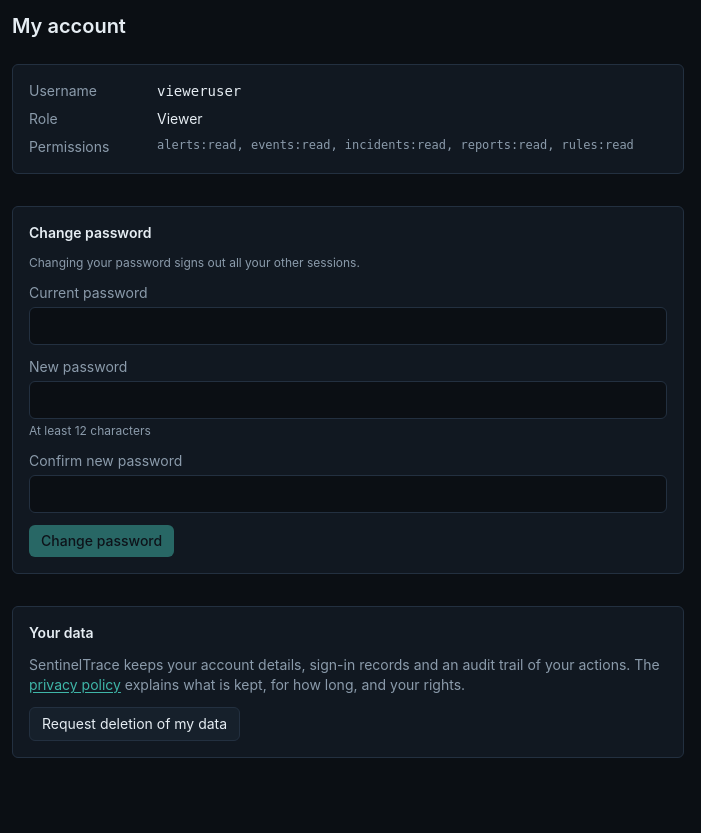
Scenario: AccountPage › shows the server error for a wrong current password
This screenshot has width=701, height=833.
In the password field labelled "Current password": x=348, y=326 [29,307,667,345], type "wrong-password"
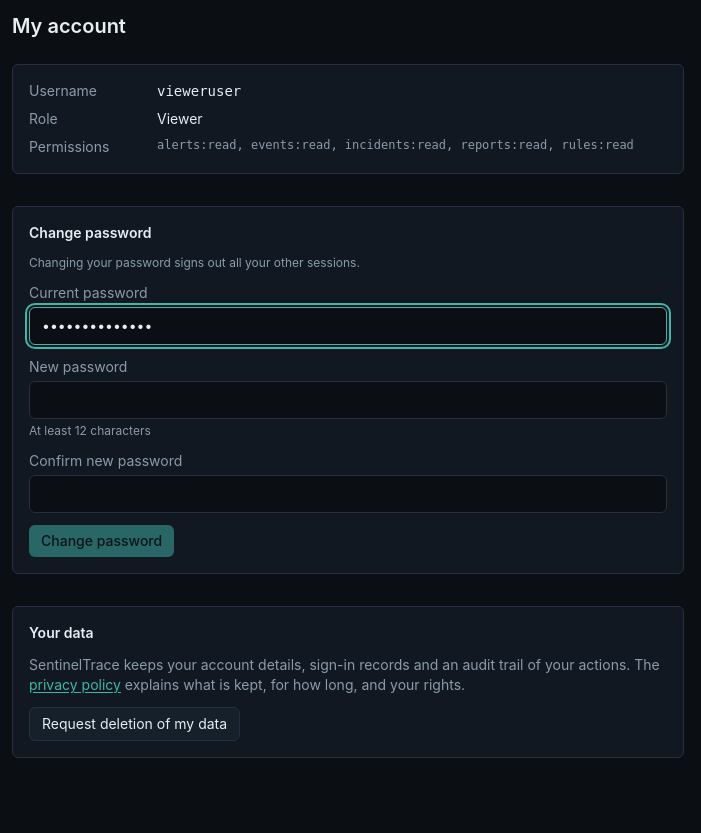
In the password field labelled "New password At least 12 characters": x=348, y=400 [29,381,667,419], type "new-password-456"
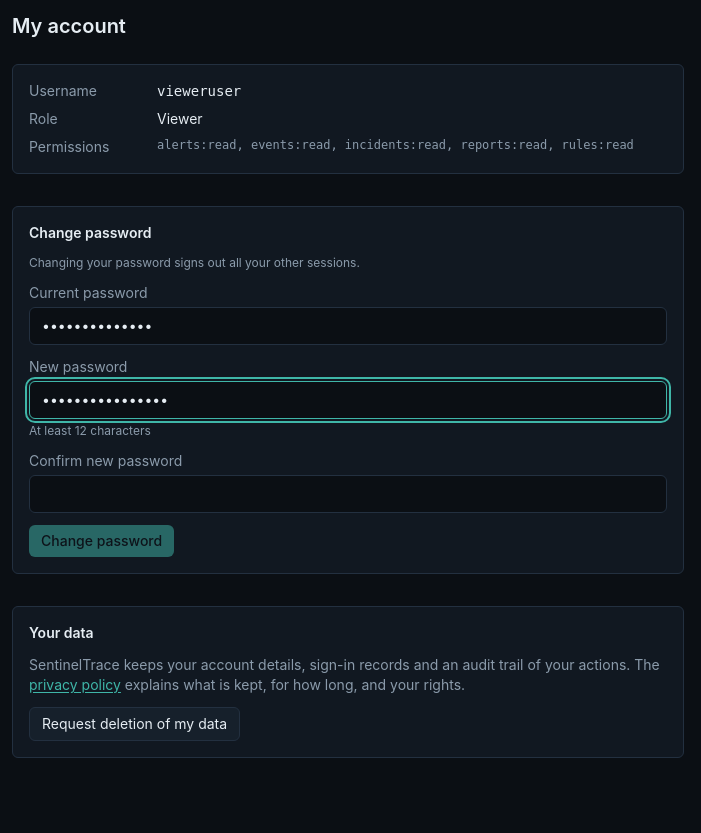
In the password field labelled "Confirm new password": x=348, y=494 [29,475,667,513], type "new-password-456"
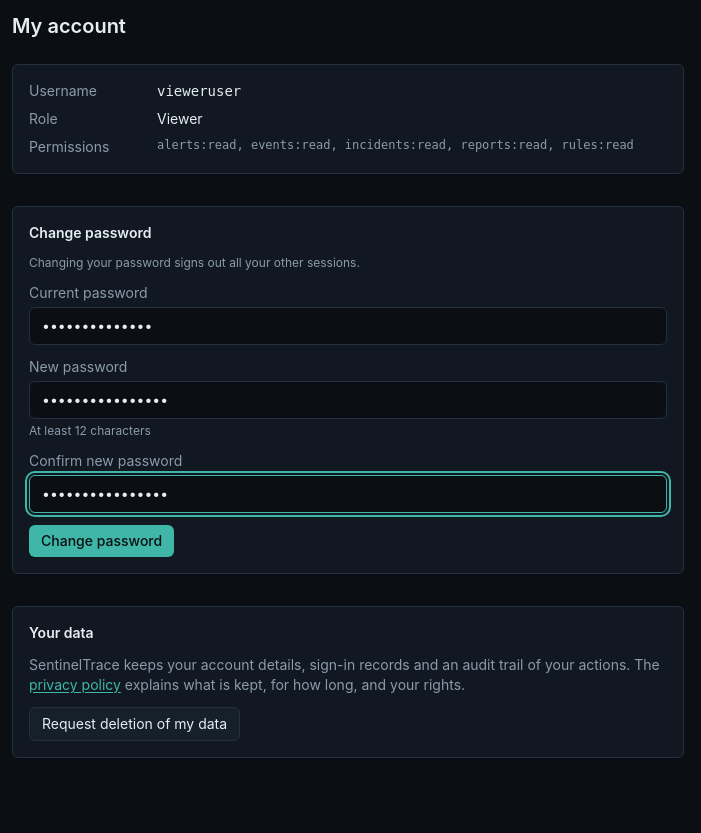
Click the button "Change password": x=102, y=541 [29,525,174,557]
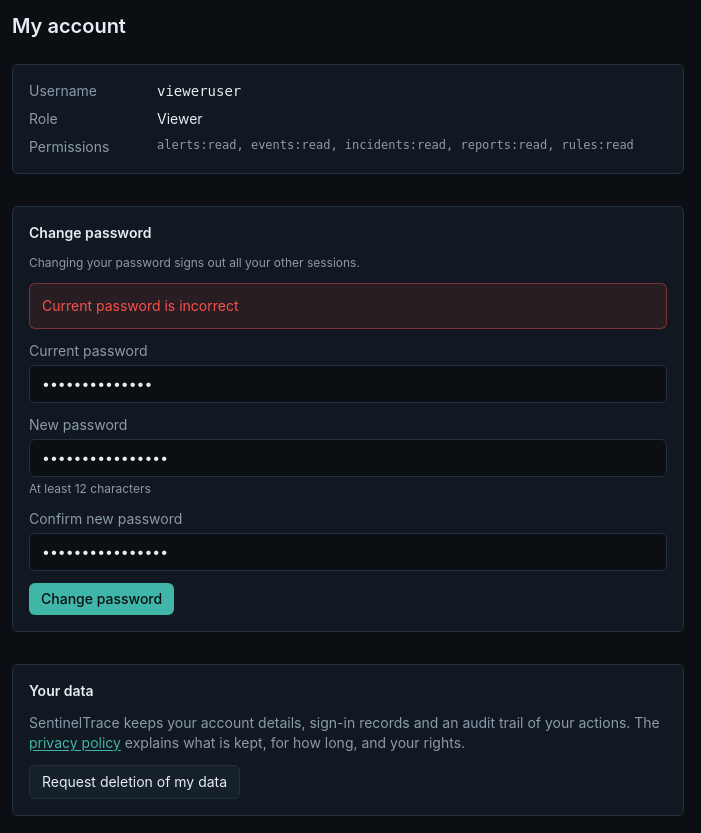
Now the message reads "Current password is incorrect", box [42,297,238,314]
